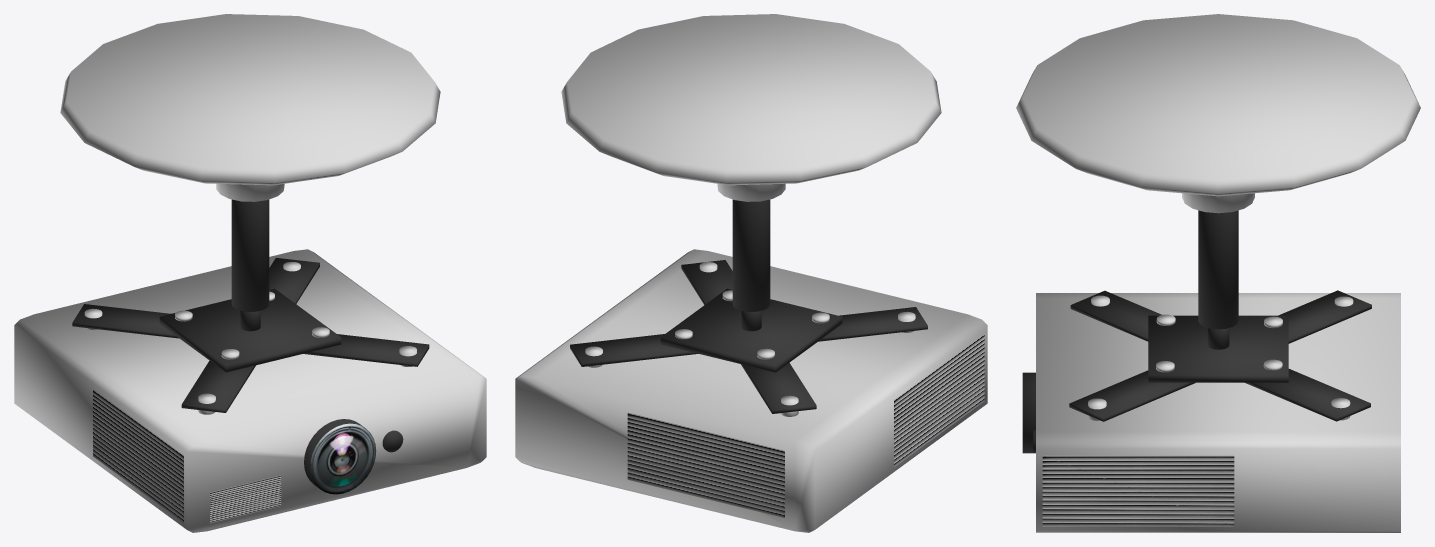
The model's file is Projector.fbx.
The picture shows the model from 3 angles, left to right: view 1: azimuth 30°, elevation 25°; view 2: azimuth 150°, elevation 25°; view 3: azimuth 270°, elevation 25°; orthographic projection. The views are drawn at different scales.
Parts seen in each view (by area): view 1: Cube; view 2: Cube; view 3: Cube.
Part boxes in pixels (box(x1,y1,x2,y2)): Cube: box(14, 14, 486, 532); Cube: box(515, 14, 987, 532); Cube: box(1016, 14, 1420, 532).
Size of the model in its own units: 33.68 by 33.38 by 33.68.
4 materials, 2 textured.
